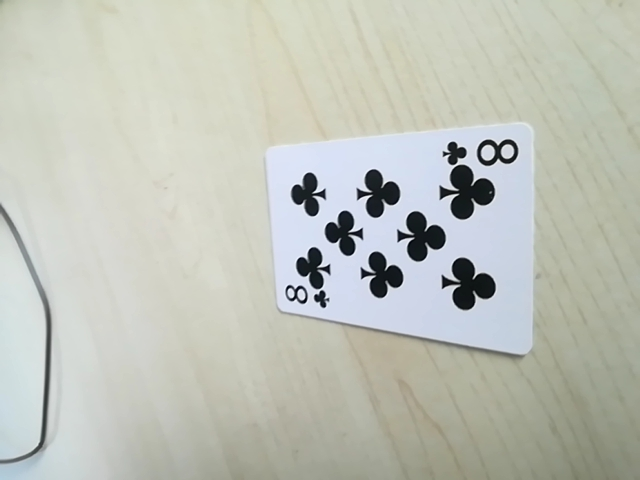mh 8: (444, 131, 522, 167), (279, 283, 332, 315)
